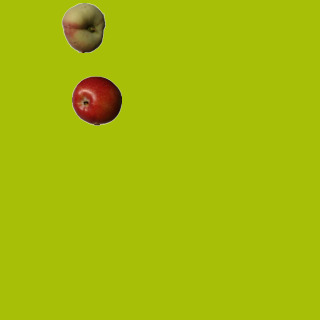Apple Braeburn: (71, 75, 121, 125)
Peach Flat: (58, 2, 108, 52)
